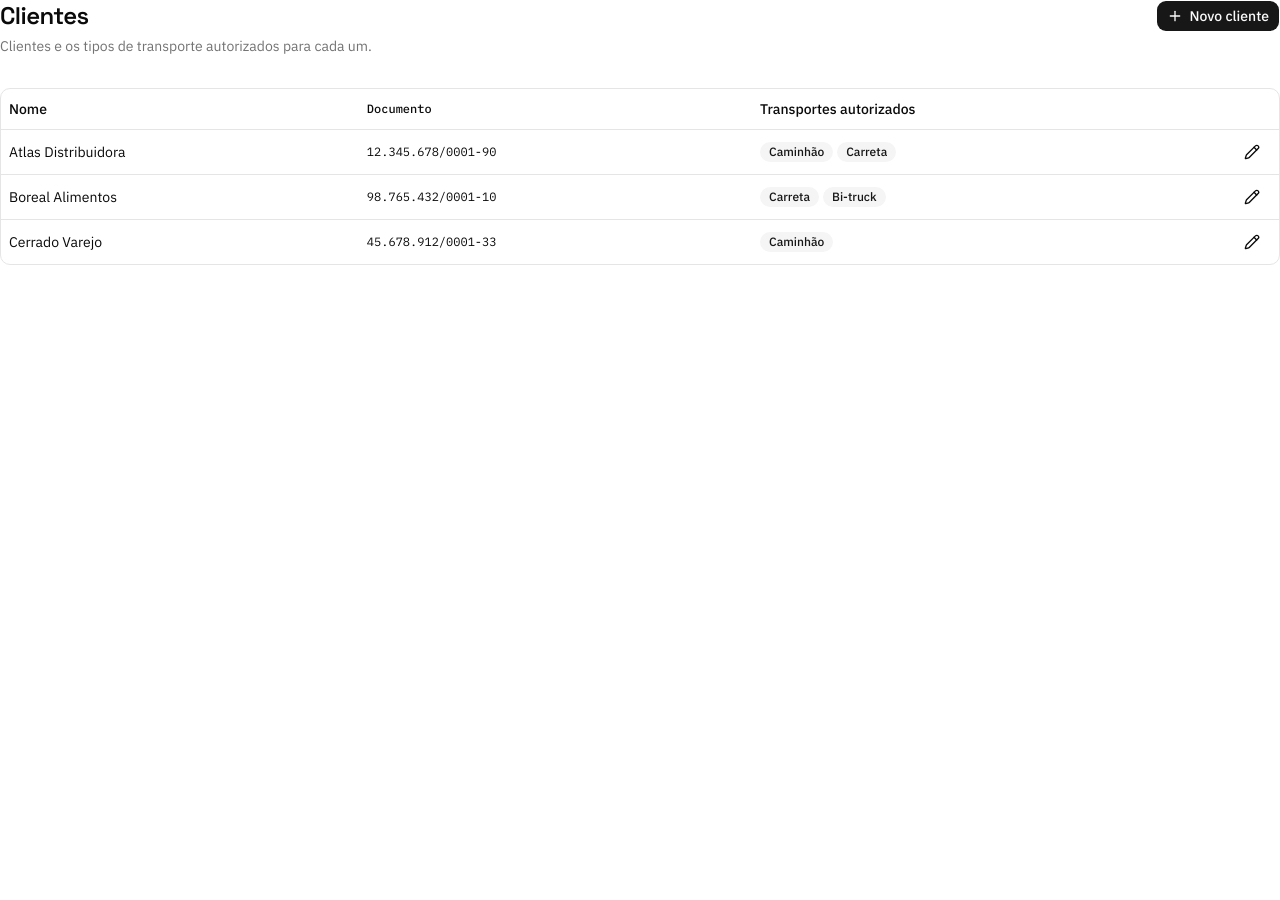
Test case: ClientsView (integração) › edita um cliente existente
The image size is (1280, 900).
Expected: the text "Cerrado Varejo" is shown, [1,219,359,264]
Click the button named "Editar Cerrado Varejo": coordinates (1252, 242) [1233,228,1271,256]
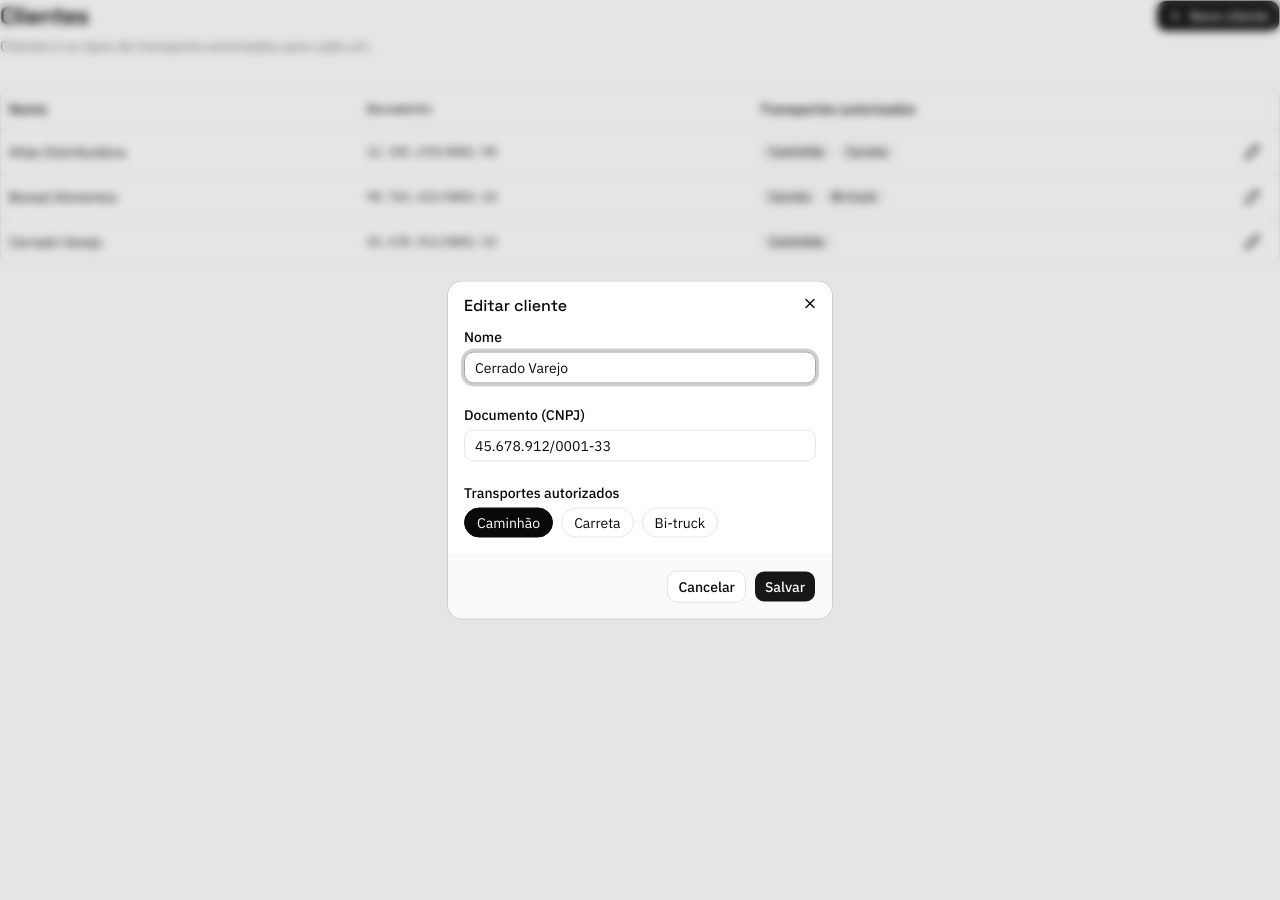
Replace the text in the field labelled "Nome" with "Cerrado Atacado": coordinates (640, 368) [464,352,816,384]
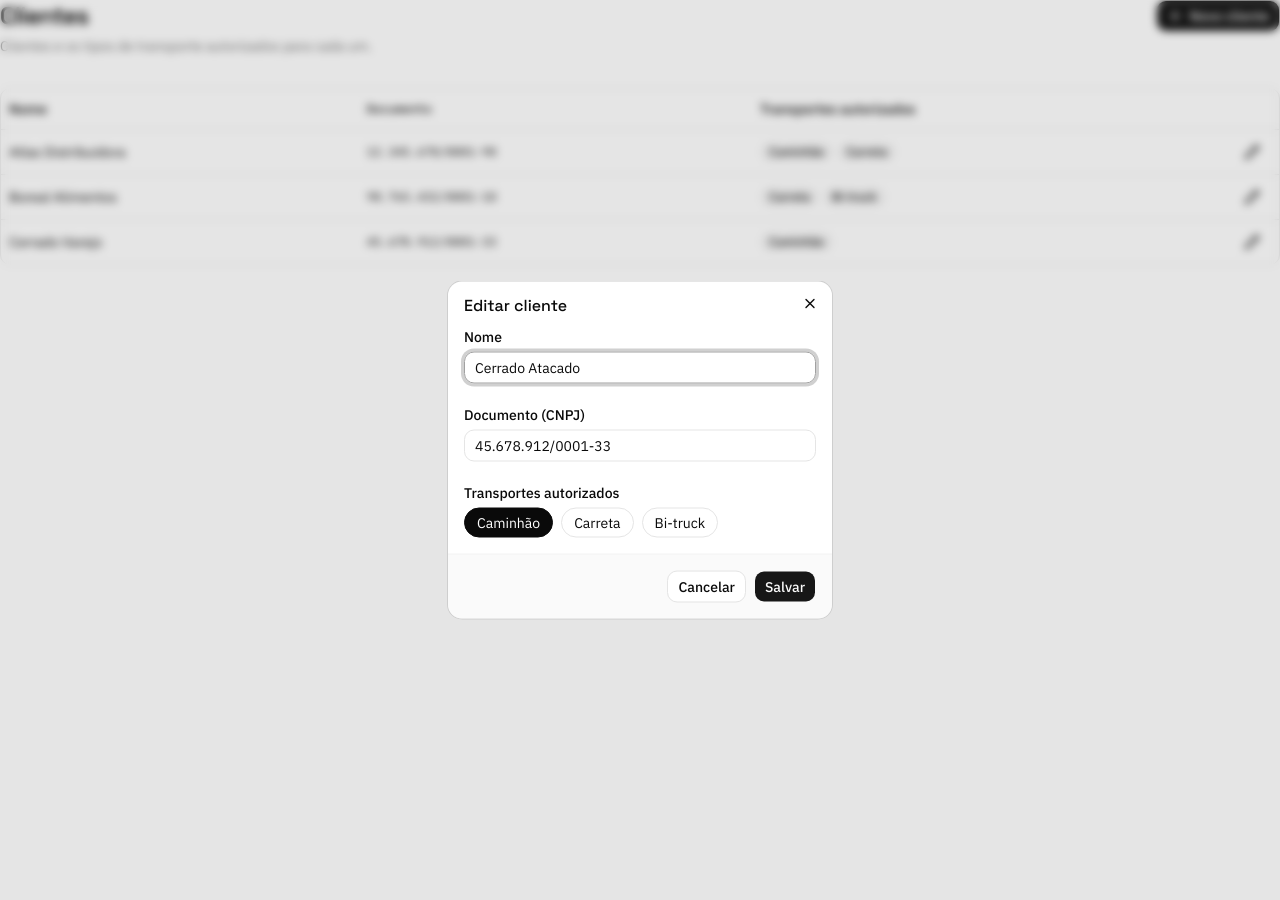
Click the button "Salvar": coordinates (785, 586) [754,570,816,602]
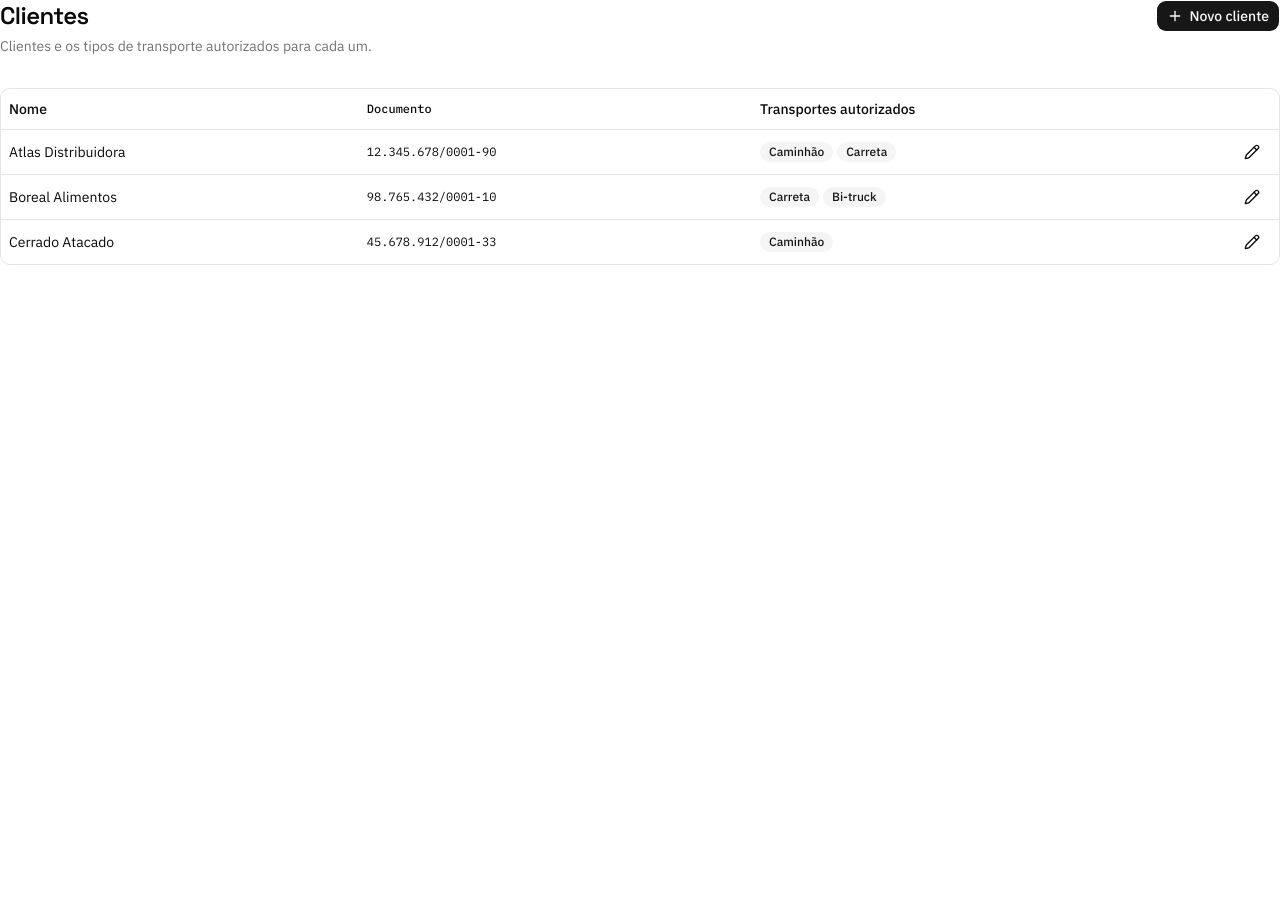
Result: the text "Cerrado Atacado" is shown at [1,219,359,264]
Result: the text "Cerrado Varejo" is gone
